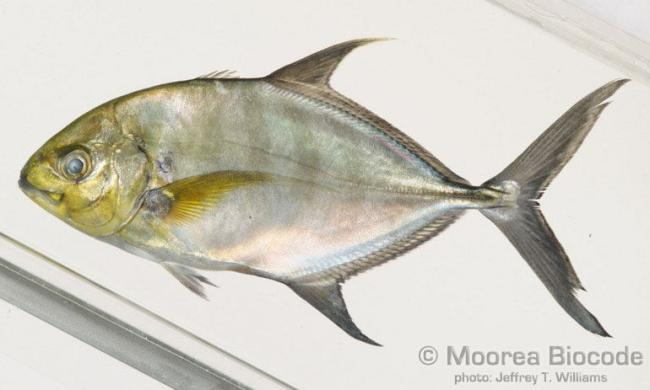fish: (19, 35, 632, 346)
